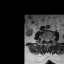CCS_severe_stenosis: (46, 37, 48, 44)
LFS_stenosis: (49, 37, 50, 42)
LLS_normal: (48, 37, 49, 42)
RFS_stenosis: (43, 37, 45, 41)
RLS_stenosis: (45, 37, 46, 43)
